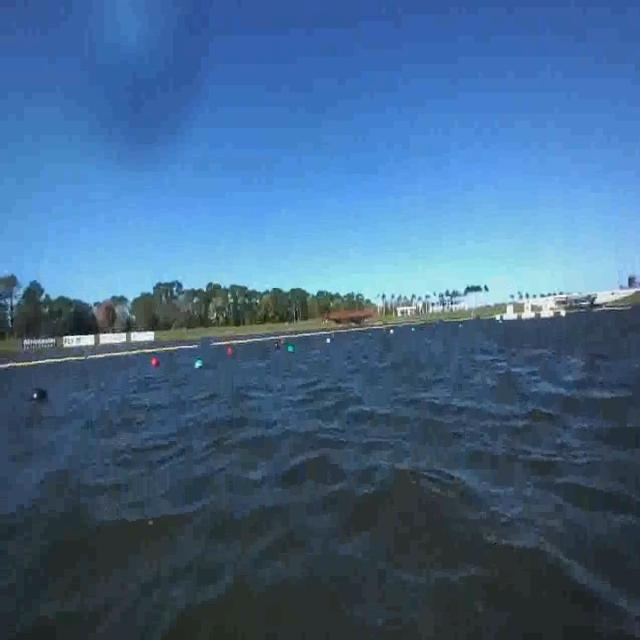black-buoy: (28, 387, 51, 407)
green-buoy: (197, 358, 204, 368)
red-buoy: (151, 357, 160, 368)
